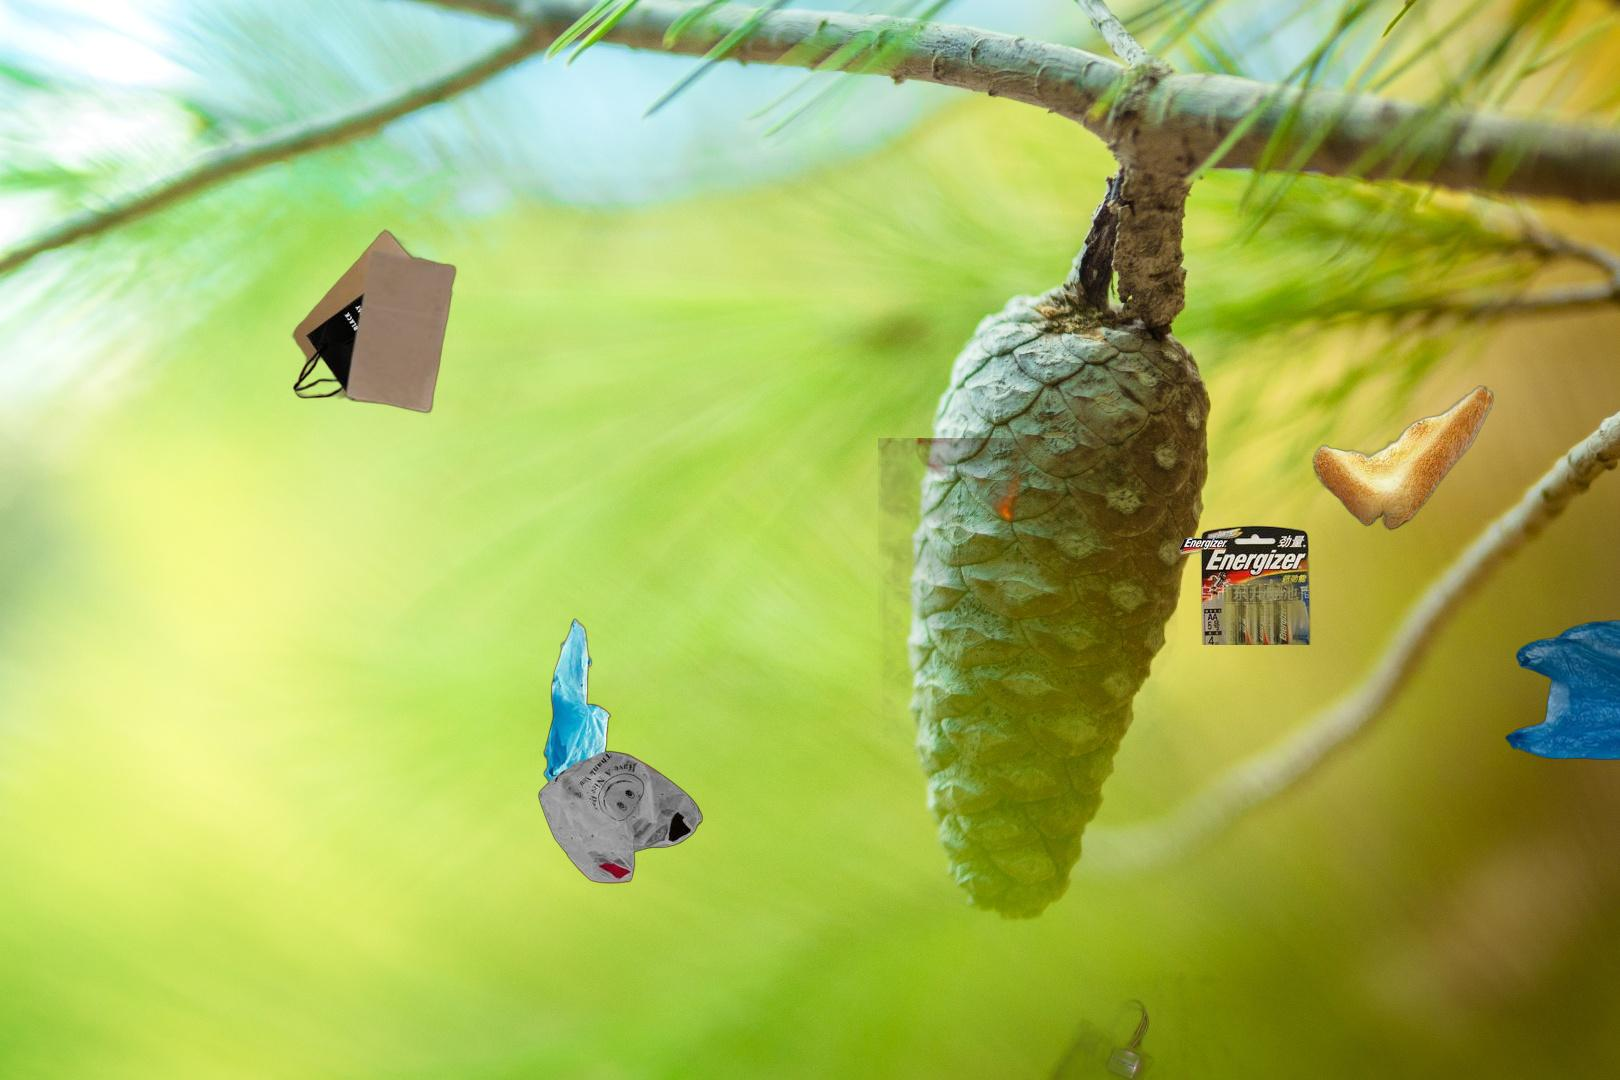battery: (1174, 523, 1323, 645)
biological: (1310, 385, 1496, 539)
paper-bag: (288, 227, 459, 418), (998, 972, 1298, 1080)
plastic-bag: (877, 438, 1178, 738), (536, 616, 706, 886), (1504, 620, 1620, 859)
